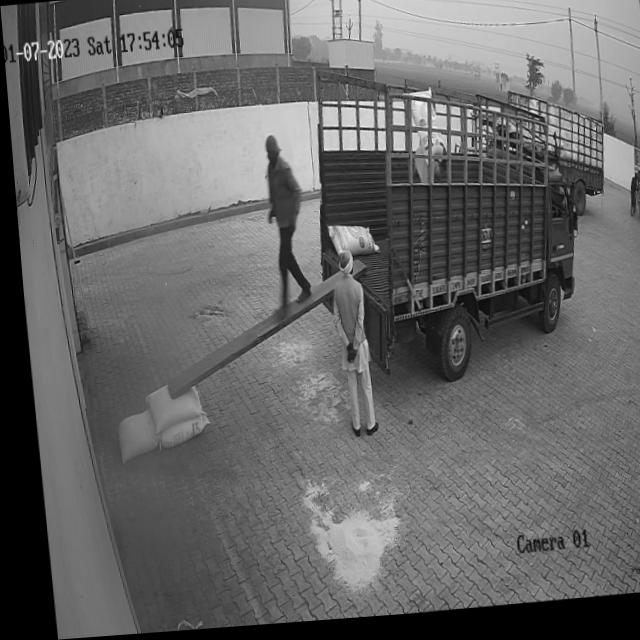sack: (137, 385, 194, 434), (108, 411, 152, 463), (322, 225, 375, 264), (149, 416, 203, 450)
